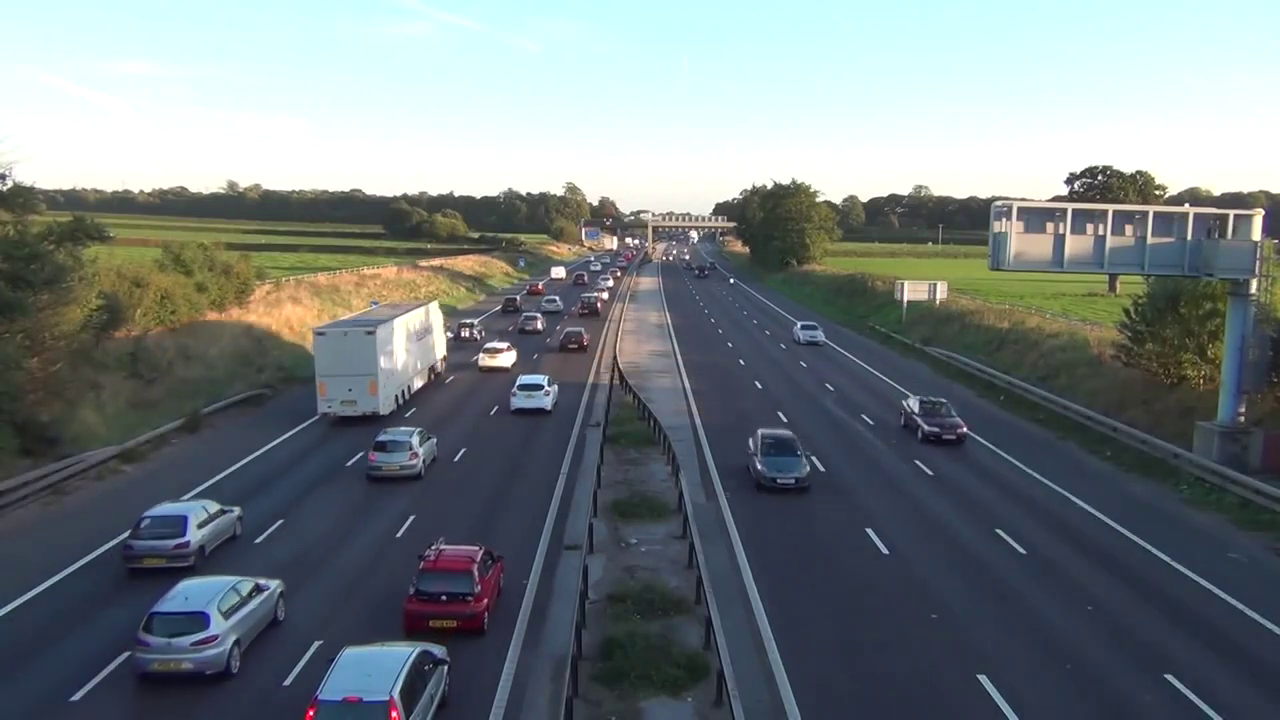Car: (131, 571, 284, 685), (312, 630, 451, 720), (114, 490, 240, 586), (409, 528, 509, 641), (740, 418, 810, 490), (892, 384, 969, 448), (369, 423, 439, 486), (513, 365, 566, 414), (453, 312, 490, 346), (559, 321, 593, 357), (574, 297, 610, 331), (791, 317, 827, 348), (519, 310, 555, 333), (536, 291, 564, 317)
License_Plate: (140, 656, 204, 677), (420, 615, 464, 632), (776, 473, 799, 484)
Truck: (316, 291, 451, 425)
